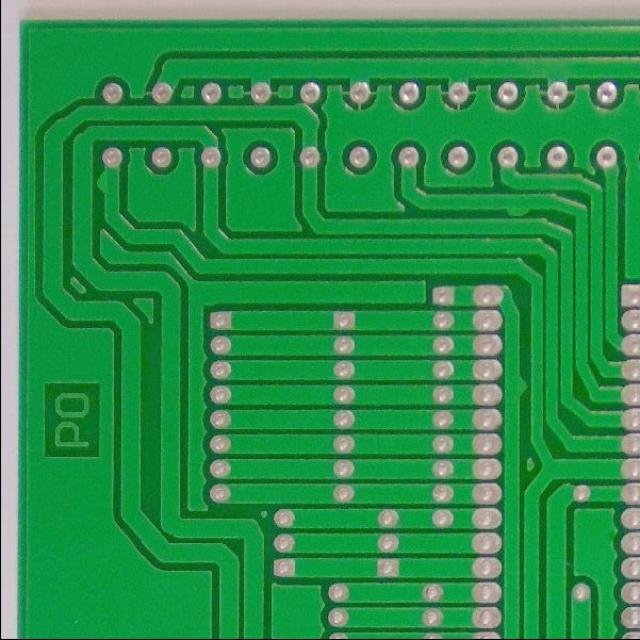spur: (498, 200, 532, 223), (89, 166, 114, 195), (511, 368, 529, 403)
